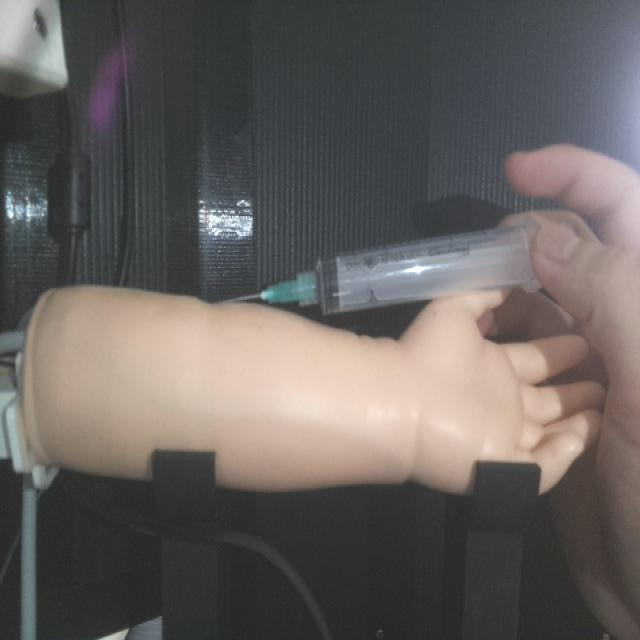Below 15 degrees: (223, 213, 561, 319)
